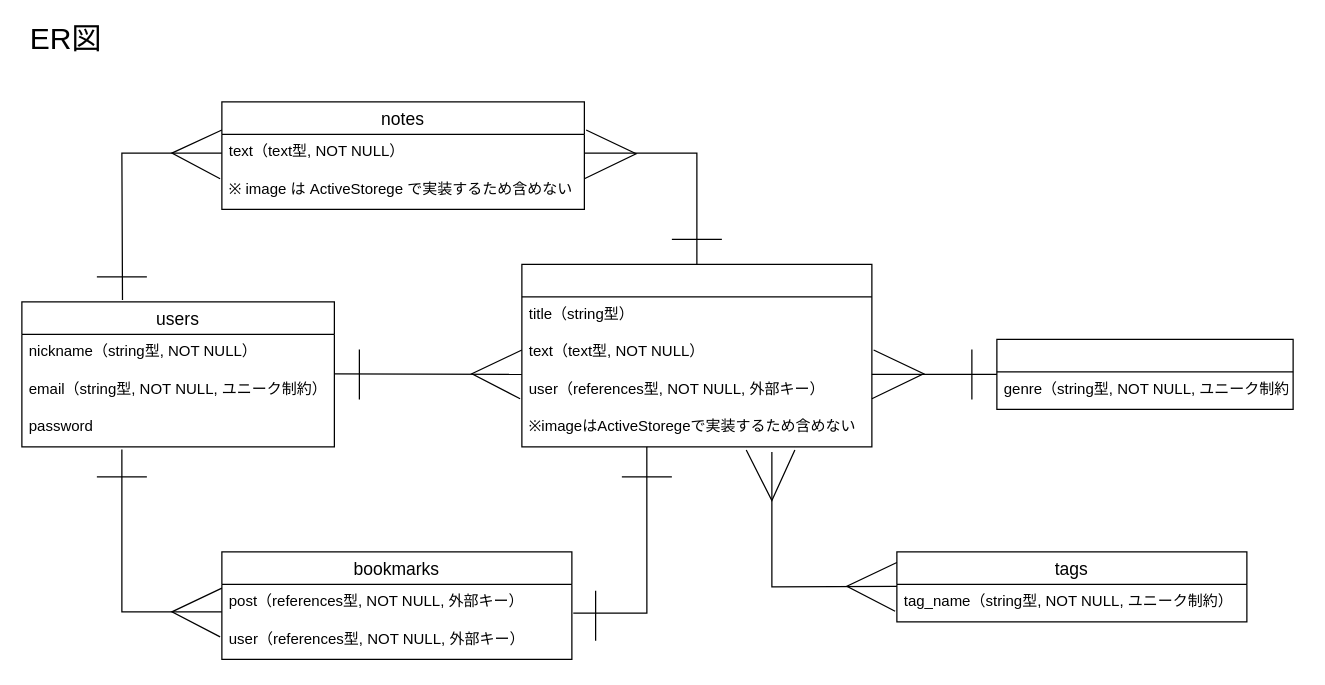
This 1325x685 diagram has some shape labels left out. The shapes that lost their labels are listed below. From the top down, each one's box as (x1, y1, x2, y2) in pixels, then its label:
(521, 263, 872, 447): posts
(996, 338, 1293, 409): categories
